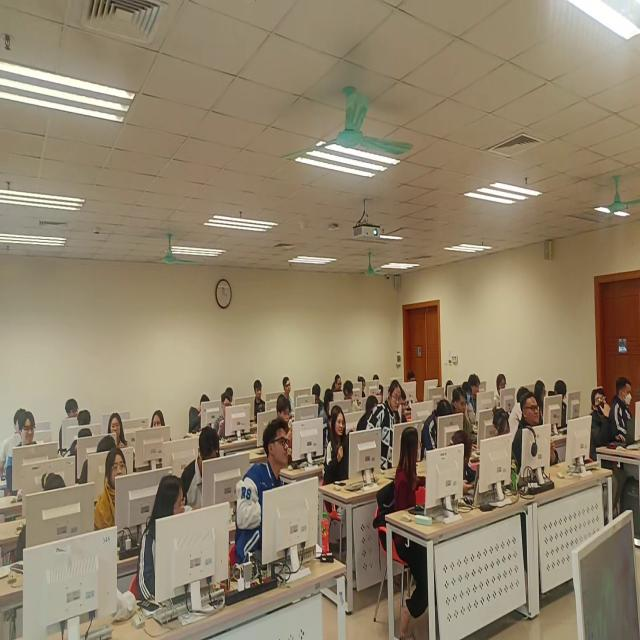raise_head: (100, 456, 146, 533), (517, 398, 559, 473), (325, 409, 356, 497), (588, 387, 617, 477), (13, 421, 53, 475), (145, 407, 173, 453), (108, 416, 134, 455), (251, 377, 270, 421), (496, 370, 511, 412), (64, 399, 83, 426), (282, 378, 298, 406)
stand: (372, 383, 402, 477), (311, 385, 324, 410)
using_computer: (181, 426, 238, 514), (26, 477, 86, 554), (483, 410, 521, 483), (451, 390, 485, 450), (612, 379, 640, 449), (424, 400, 455, 461), (217, 396, 250, 444), (549, 382, 581, 431), (84, 441, 117, 487), (67, 432, 97, 472), (468, 375, 491, 420), (77, 410, 98, 436)
using_phone: (275, 396, 305, 453)
